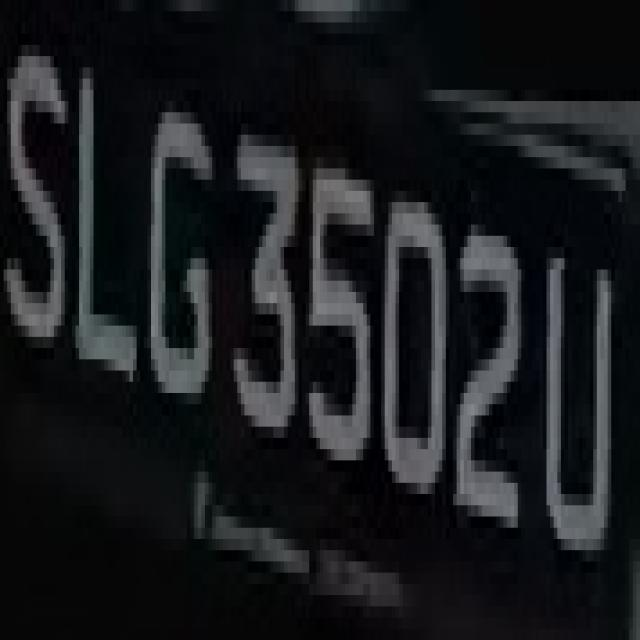0: (374, 146, 446, 539)
2: (449, 179, 525, 562)
3: (223, 90, 306, 449)
5: (306, 124, 374, 494)
G: (140, 79, 216, 426)
L: (79, 56, 144, 416)
S: (7, 12, 72, 360)
U: (525, 202, 615, 562)
